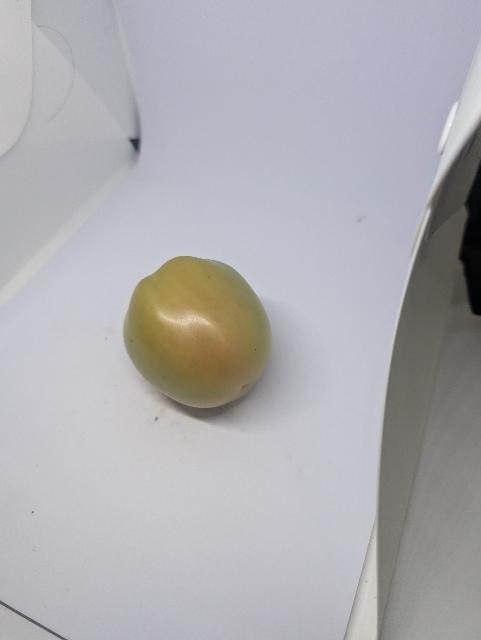breaker: (124, 256, 272, 408)
